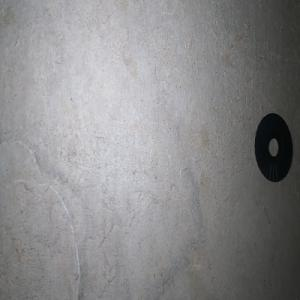Washer: (254, 112, 292, 182)
